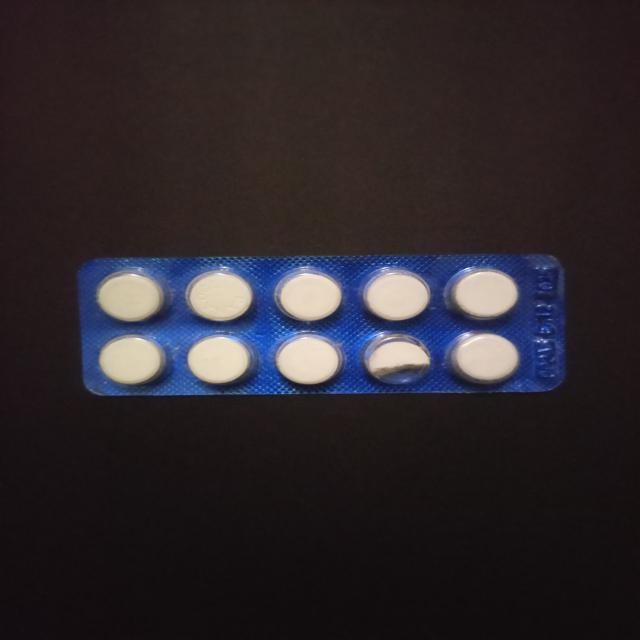defect: (358, 331, 434, 388)
